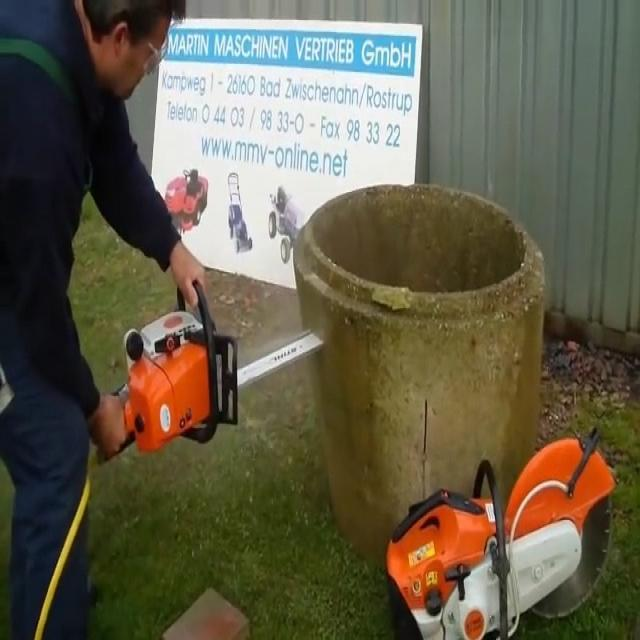Chainsaw: (77, 255, 354, 472)
